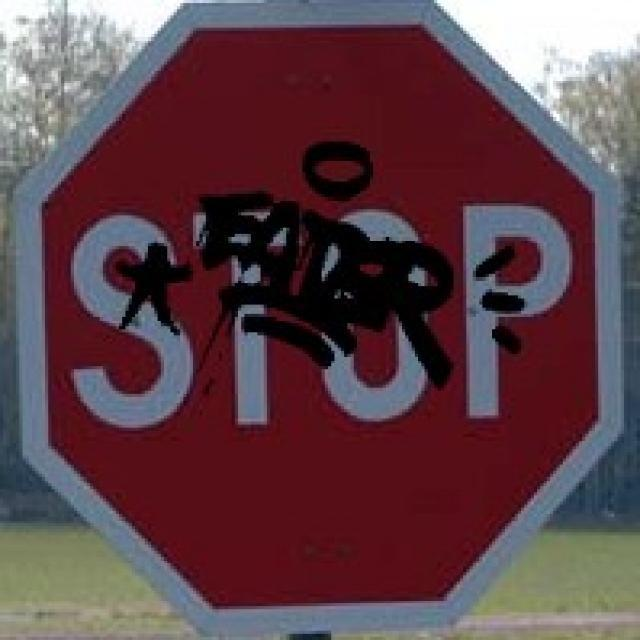Stop-Sign: (62, 30, 591, 603)
